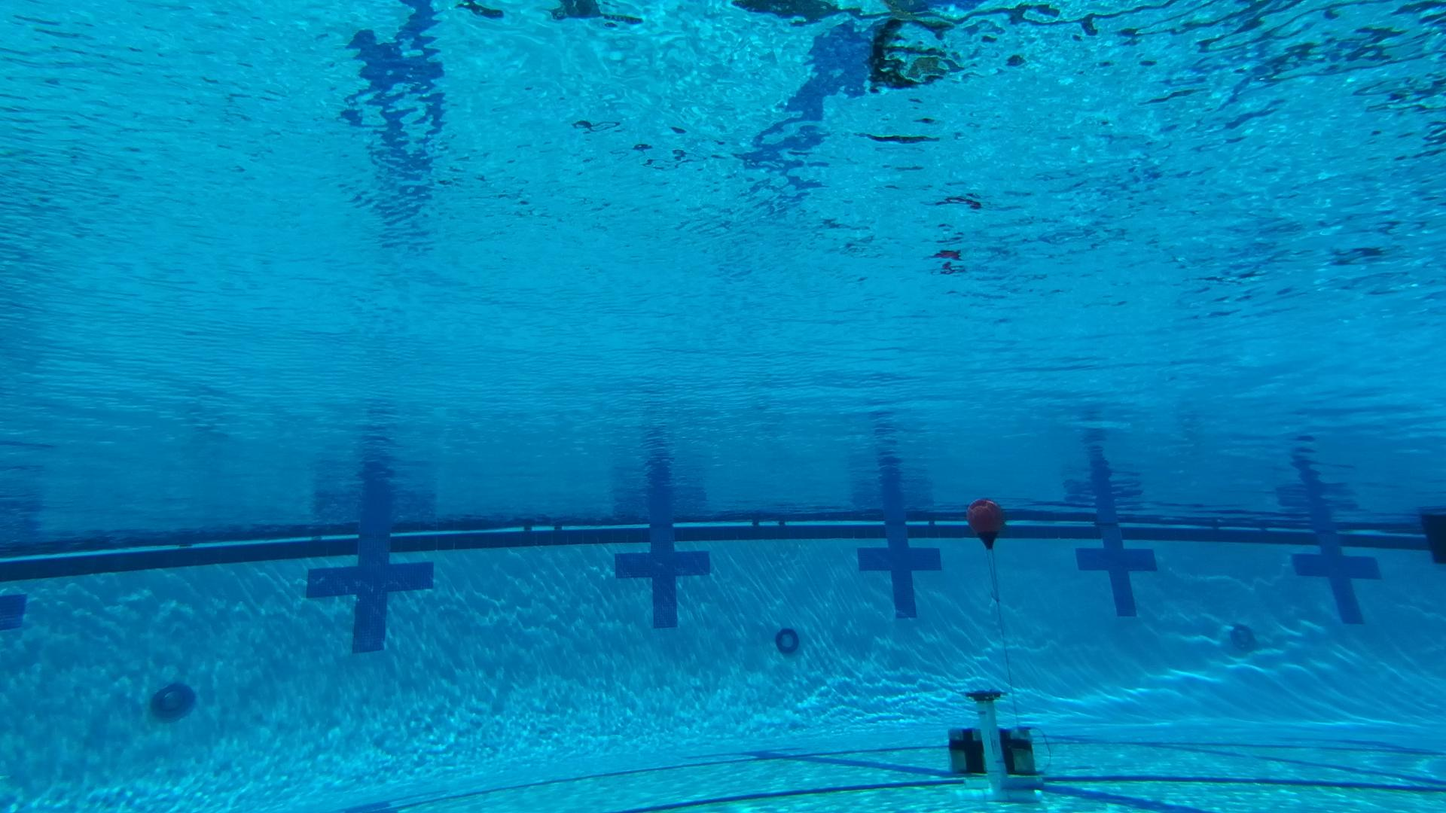buoy: (966, 497, 1004, 550)
path: (938, 685, 1036, 807)
